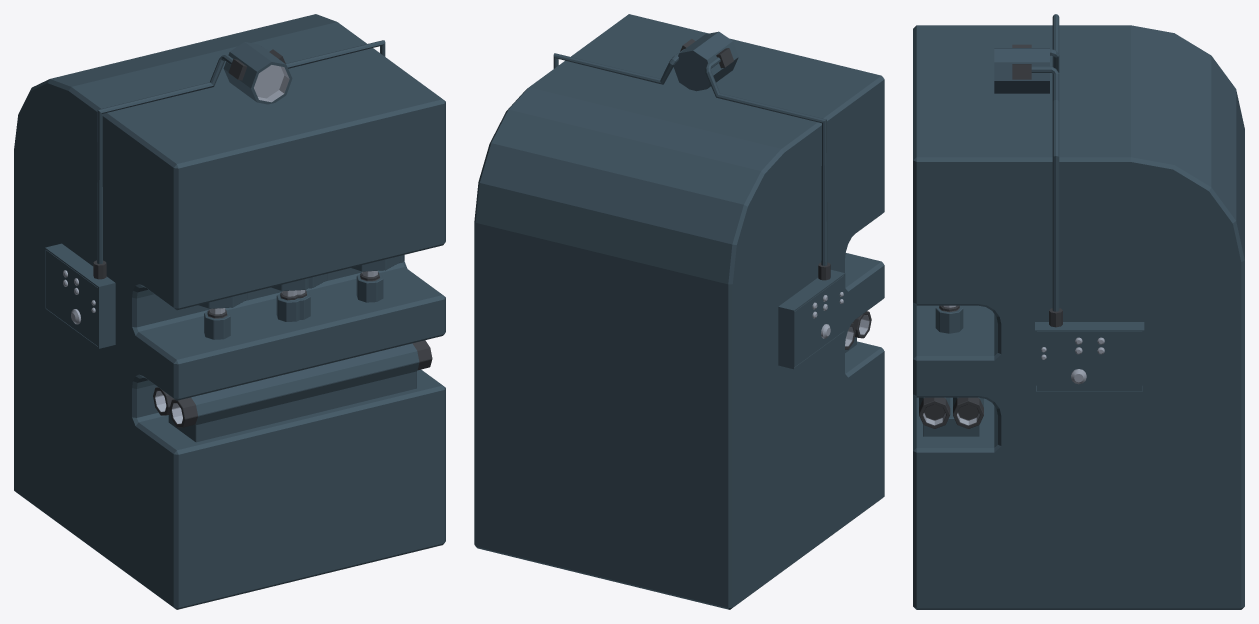
The picture shows the model from 3 angles, left to right: view 1: azimuth 30°, elevation 25°; view 2: azimuth 150°, elevation 25°; view 3: azimuth 270°, elevation 25°; orthographic projection. The views are drawn at different scales.
Parts seen in each view (by area): view 1: Cube.016; view 2: Cube.016; view 3: Cube.016.
Boxes of the visible parts, <box> form: Cube.016: <box>14,14,445,609</box>; Cube.016: <box>474,14,884,609</box>; Cube.016: <box>913,14,1244,609</box>.
Size of the model in its own units: 2.18 by 3.23 by 1.96.
